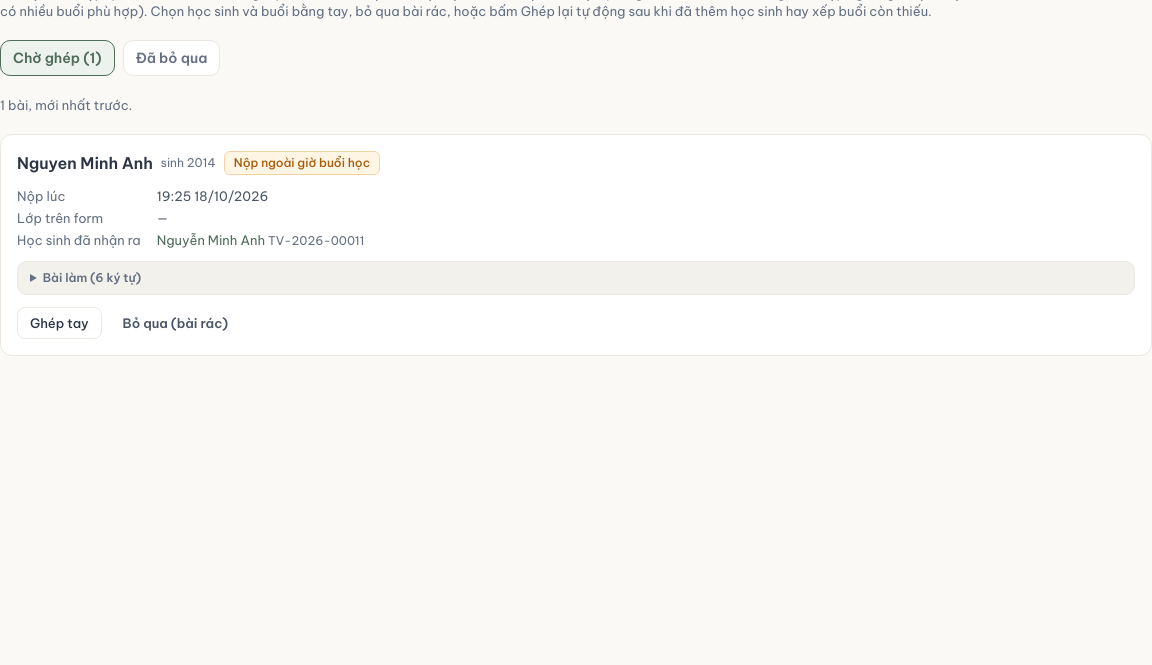
Test: manual match › preselects the student the webhook already recognised and shows a refused match
Click the button "Ghép tay" at (59, 323), box [17,307,102,339]
(page scrolled)
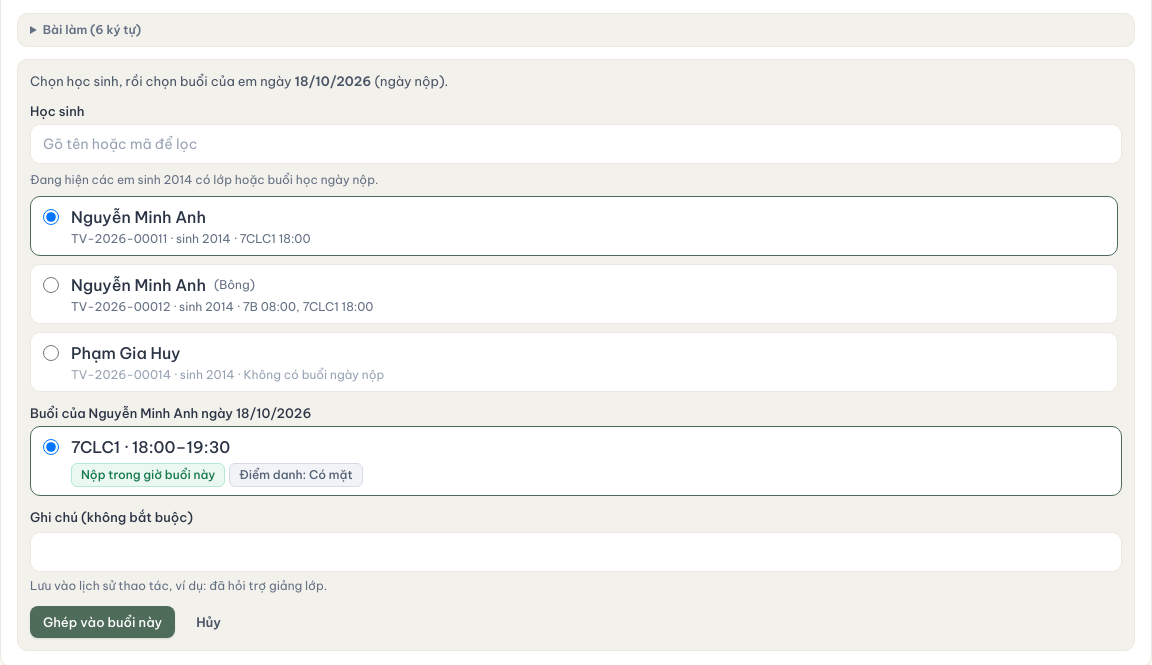
Expected: the radio button labelled "Nguyễn Minh Anh TV-2026-00011 · sinh 2014 · 7CLC1 18:00" is checked, [43,209,59,225]
Expected: the radio button labelled "7CLC1 · 18:00–19:30 Nộp trong giờ buổi này Điểm danh: Có mặt" is checked, [43,439,59,455]
Click the button "Ghép vào buổi này" at (103, 622), box [30,606,175,638]
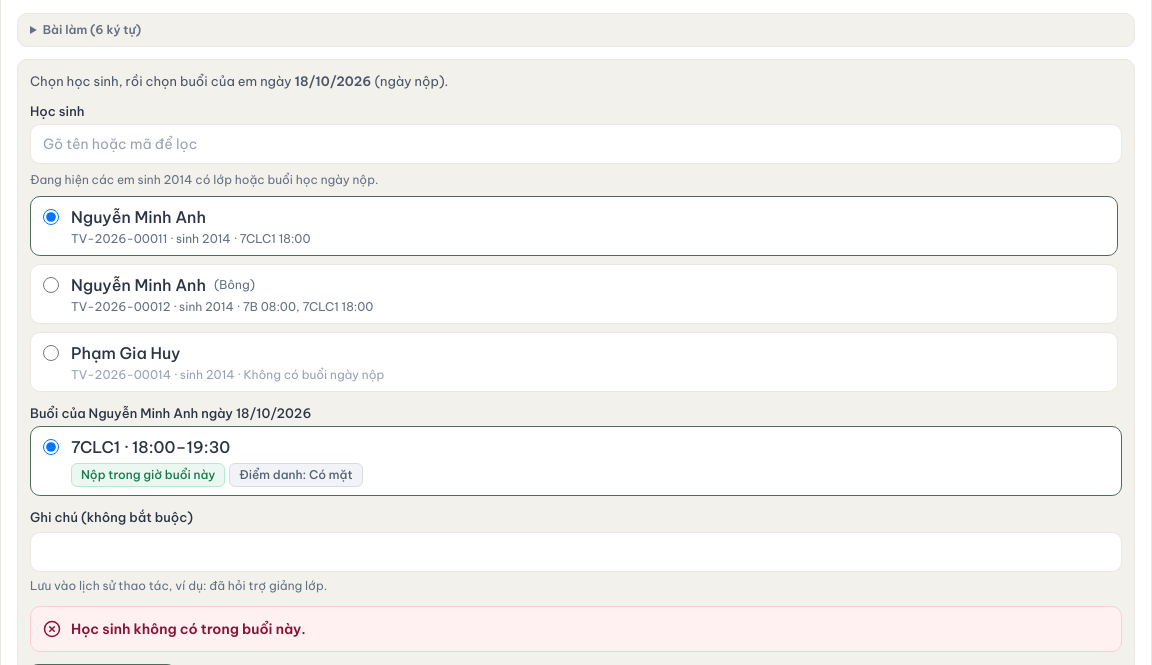
Expected: the text "Học sinh không có trong buổi này." is shown, [71,620,306,638]
